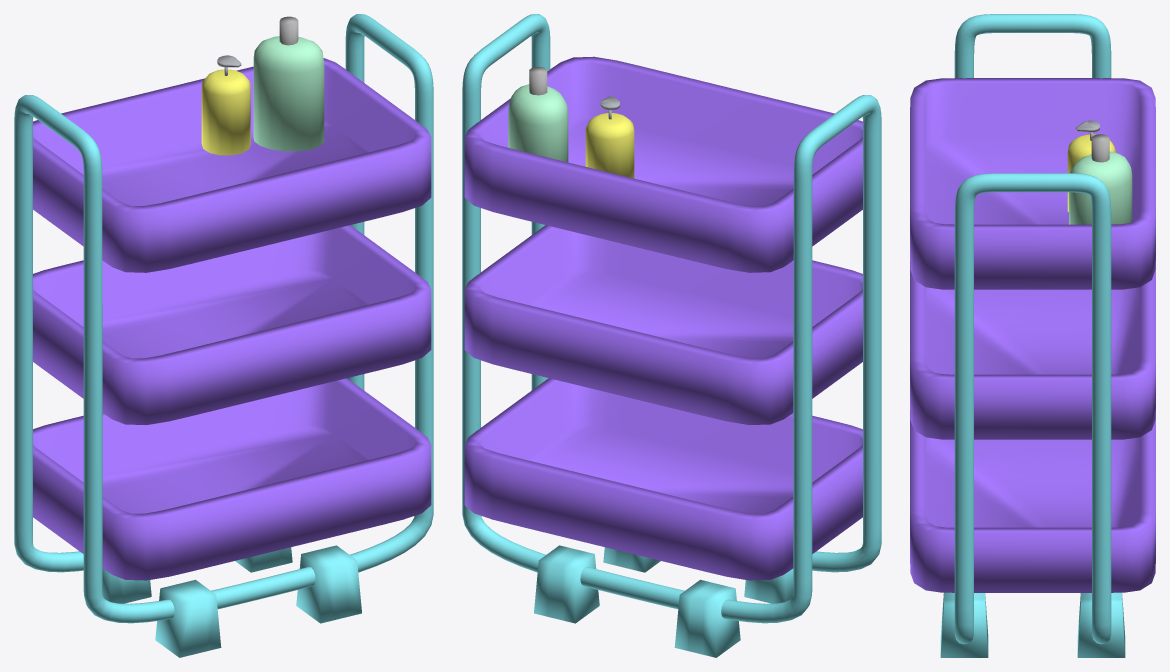
The model's file is kylppäriLaatikosto.fbx.
3 renders of one model, left to right at view 1: azimuth 30°, elevation 25°; view 2: azimuth 150°, elevation 25°; view 3: azimuth 270°, elevation 25°, orthographic.
Parts seen in each view (by area): view 1: BezierCurve, Cylinder.001, Cylinder.002; view 2: BezierCurve, Cylinder.001, Cylinder.002; view 3: BezierCurve, Cylinder.001, Cylinder.002.
Part boxes in pixels (x1,y1,x2,y2): BezierCurve: [14, 14, 433, 657]; Cylinder.001: [253, 16, 324, 151]; Cylinder.002: [201, 55, 250, 155]; BezierCurve: [462, 14, 881, 657]; Cylinder.001: [508, 67, 568, 162]; Cylinder.002: [585, 96, 634, 178]; BezierCurve: [910, 14, 1155, 657]; Cylinder.001: [1069, 134, 1132, 224]; Cylinder.002: [1067, 120, 1115, 211].
Bounding box in the file's own units: 0.8134 × 1.19 × 0.506.
